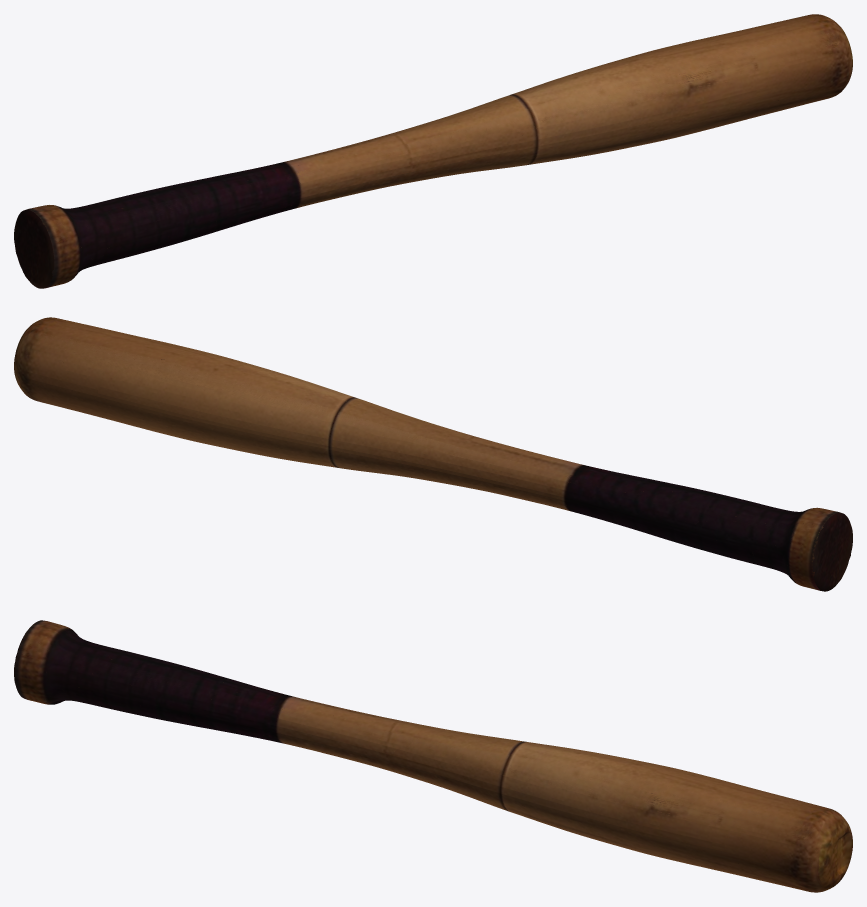
The model's file is source-12.glb.
3 views of the same model, one above another, from view 1: azimuth 30°, elevation 25°; view 2: azimuth 150°, elevation 25°; view 3: azimuth 330°, elevation 25° (orthographic).
Parts seen in each view (by area): view 1: tmp936lb6hs.ply; view 2: tmp936lb6hs.ply; view 3: tmp936lb6hs.ply.
Part boxes in pixels (bbox=[...]): tmp936lb6hs.ply: bbox=[14, 14, 852, 288]; tmp936lb6hs.ply: bbox=[14, 317, 852, 591]; tmp936lb6hs.ply: bbox=[14, 620, 852, 892].
Bounding box in the file's own units: 1.96 × 0.1885 × 0.1914.
Materials: 1 (1 with a texture image).
